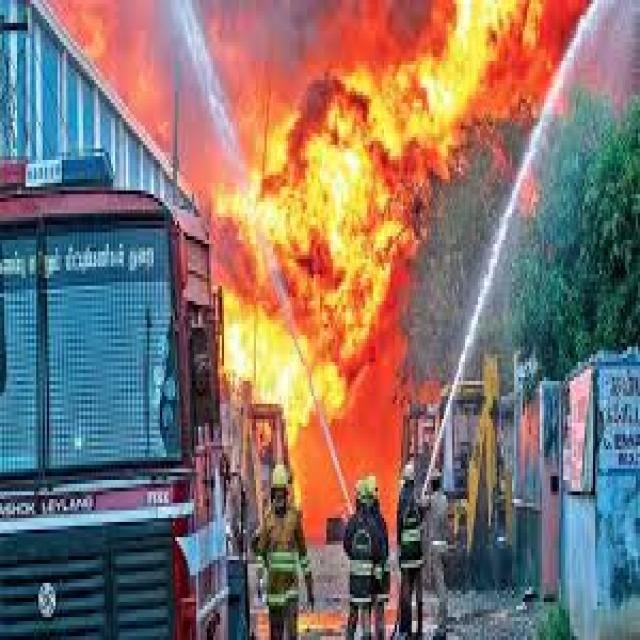fire: (243, 72, 442, 366), (341, 4, 557, 137)
